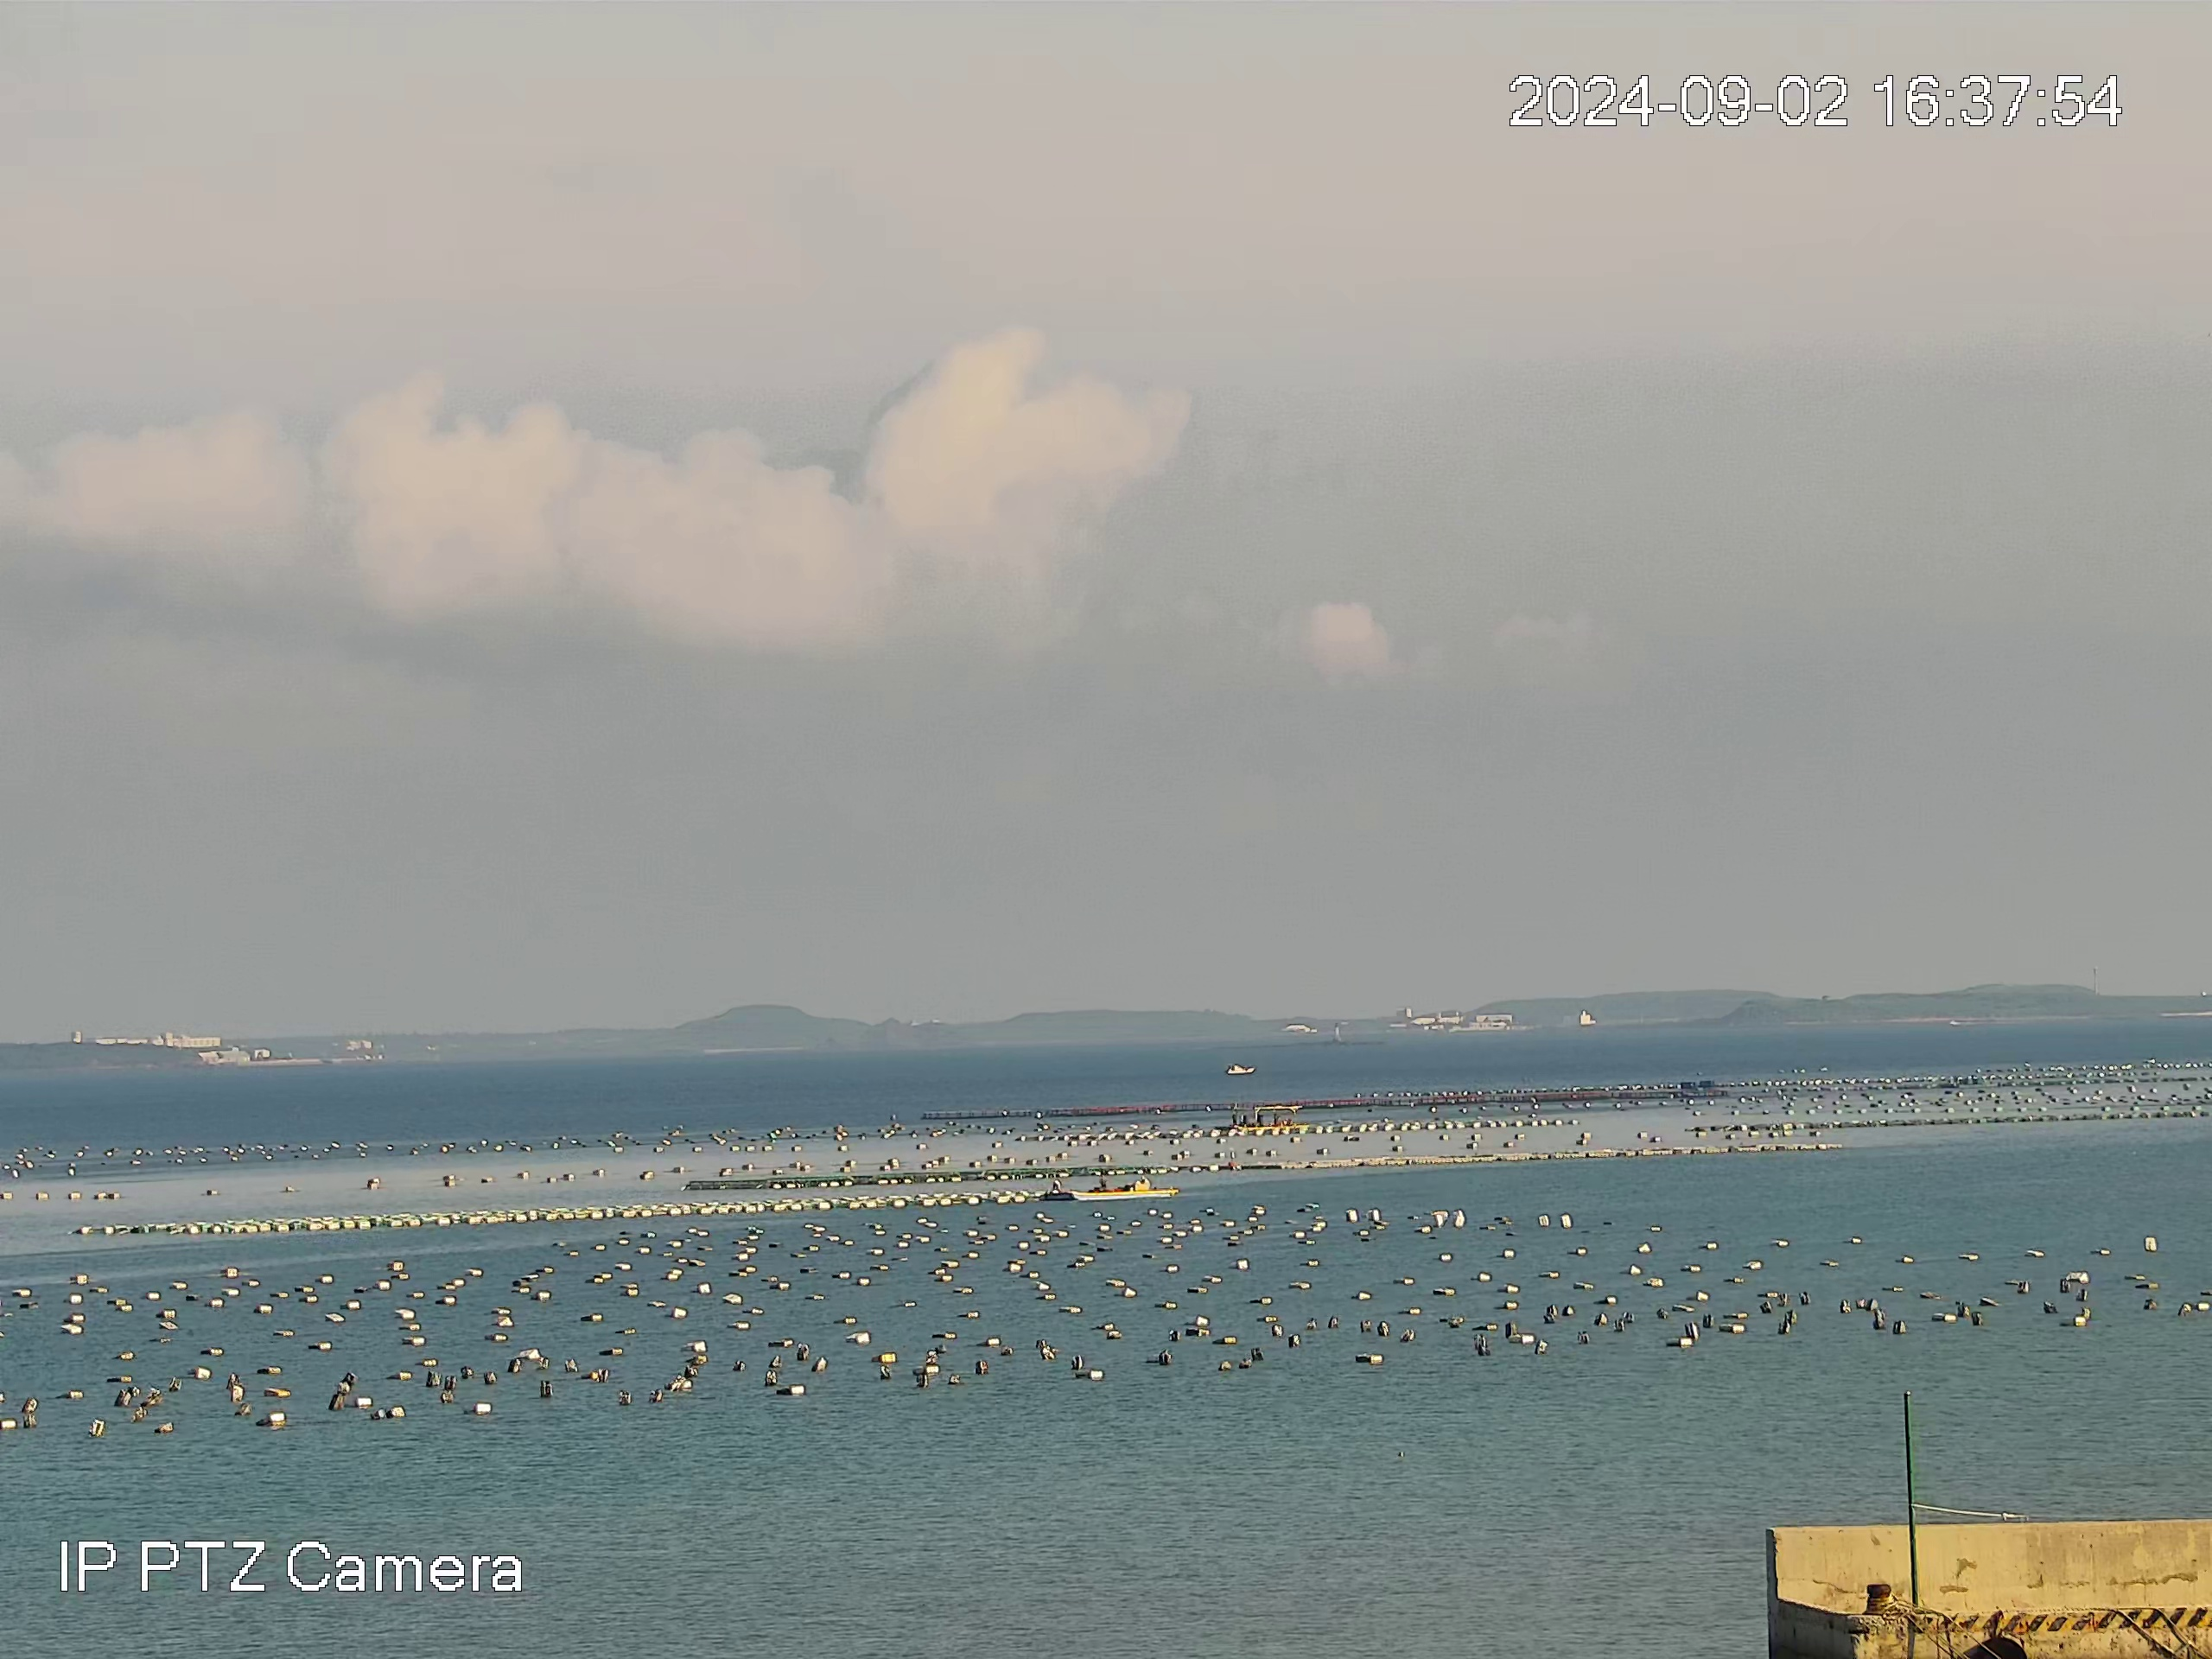boat: (1038, 1173, 1180, 1203), (1230, 1103, 1310, 1131), (1224, 1062, 1255, 1076)
